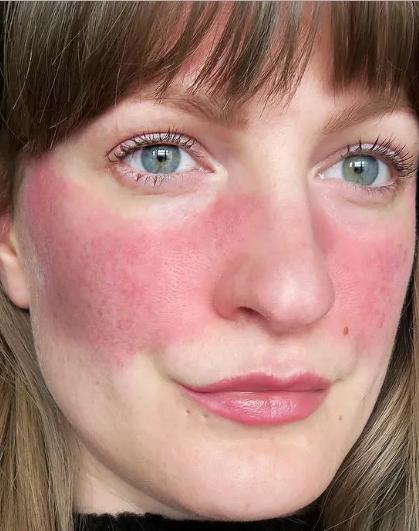Skin-Redness: (35, 220, 185, 355), (336, 230, 404, 342), (198, 185, 285, 252)
